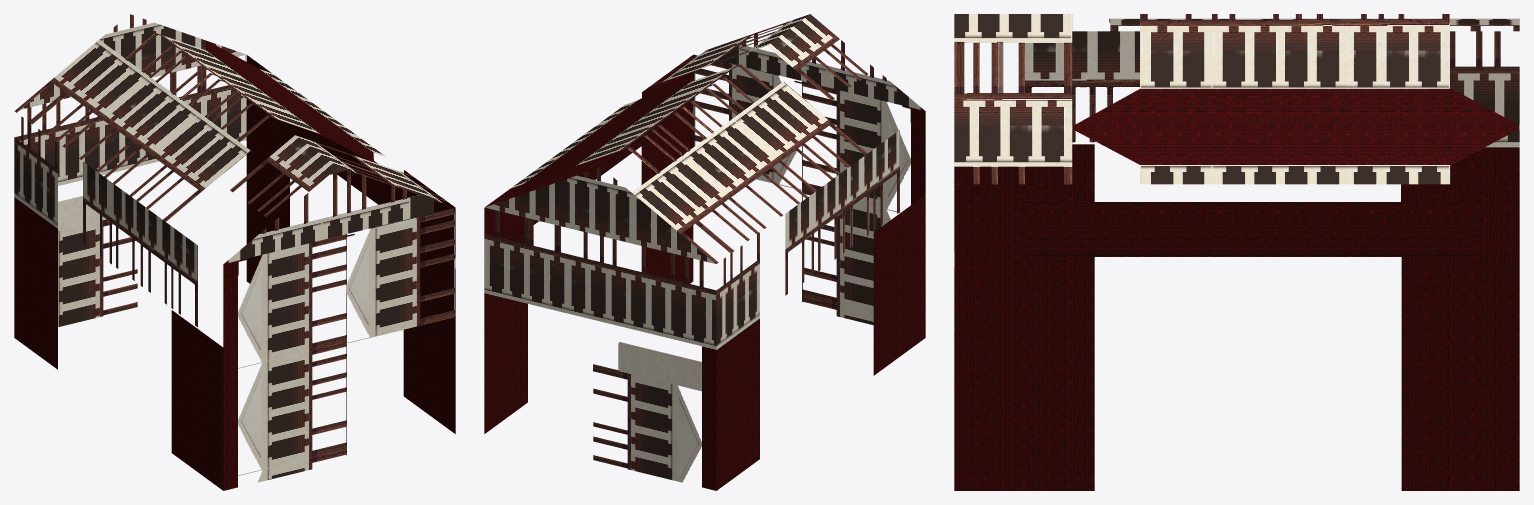
Rendered from model_greek_house_01.fbx.
The picture shows the model from 3 angles, left to right: view 1: azimuth 30°, elevation 25°; view 2: azimuth 150°, elevation 25°; view 3: azimuth 270°, elevation 25°; orthographic projection. The views are drawn at different scales.
Visible parts, largest first — view 1: Cube; view 2: Cube; view 3: Cube.
Boxes of the visible parts, x1=… form: Cube: x1=14, y1=14, x2=455, y2=490; Cube: x1=484, y1=14, x2=925, y2=490; Cube: x1=954, y1=14, x2=1519, y2=490.
Size of the model in its own units: 98.69 by 120 by 154.
Materials: 1 (1 with a texture image).
